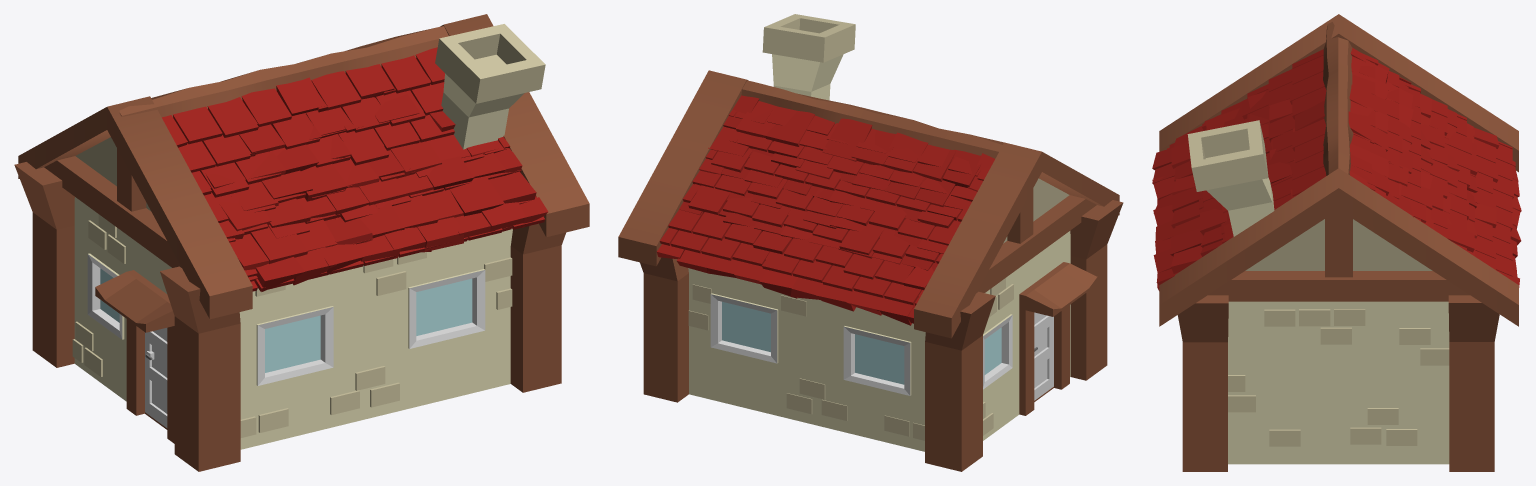
File: House.fbx
3 views of the same model, side by side, from view 1: azimuth 30°, elevation 25°; view 2: azimuth 150°, elevation 25°; view 3: azimuth 270°, elevation 25° (orthographic). The views are drawn at different scales.
Visible parts, largest first — view 1: Walls, Roofpanels1, RoofBeams, Roofpanels0.001, Poal1, Chimney, Poal0, Poal3, WallBricks, MiddleBeam, DoorFrame, Door (+1 smaller); view 2: Walls, Roofpanels0.001, RoofBeams, Roofpanels1, Poal0, Poal2, Poal1, Chimney, DoorFrame, MiddleBeam, WallBricks, Door (+1 smaller); view 3: RoofBeams, Walls, Roofpanels0.001, Roofpanels1, Poal2, Poal3, Chimney, WallBricks, RoofInside, MiddleBeam.
Boxes of the visible parts, box(x1,y1,x2,y2) form: Walls: box(74, 197, 512, 449); Roofpanels1: box(200, 74, 548, 291); RoofBeams: box(18, 14, 589, 319); Roofpanels0.001: box(162, 47, 544, 291); Poal1: box(160, 266, 240, 471); Chimney: box(435, 24, 545, 149); Poal0: box(14, 162, 74, 367); Poal3: box(510, 223, 566, 392); WallBricks: box(72, 214, 512, 437); MiddleBeam: box(119, 26, 448, 117); DoorFrame: box(95, 270, 174, 443); Door: box(145, 328, 167, 427); Walls: box(688, 231, 1070, 451); Roofpanels0.001: box(660, 106, 990, 305); RoofBeams: box(618, 70, 1119, 338); Roofpanels1: box(657, 95, 994, 325); Poal0: box(925, 291, 995, 471); Poal2: box(640, 257, 688, 402); Poal1: box(1070, 200, 1123, 380); Chimney: box(762, 14, 855, 100); DoorFrame: box(1019, 262, 1097, 415); MiddleBeam: box(741, 80, 1003, 158); WallBricks: box(688, 278, 1013, 440); Door: box(1034, 312, 1053, 400); RoofBeams: box(1159, 14, 1518, 326); Walls: box(1228, 301, 1449, 464); Roofpanels0.001: box(1157, 49, 1513, 290); Roofpanels1: box(1152, 47, 1521, 287); Poal2: box(1448, 295, 1499, 471); Poal3: box(1177, 295, 1228, 471); Chimney: box(1187, 120, 1274, 236); WallBricks: box(1228, 309, 1449, 446); RoofInside: box(1245, 219, 1432, 270); MiddleBeam: box(1323, 22, 1353, 175).
Bounding box in the file's own units: 9.55 × 7.66 × 8.16.
